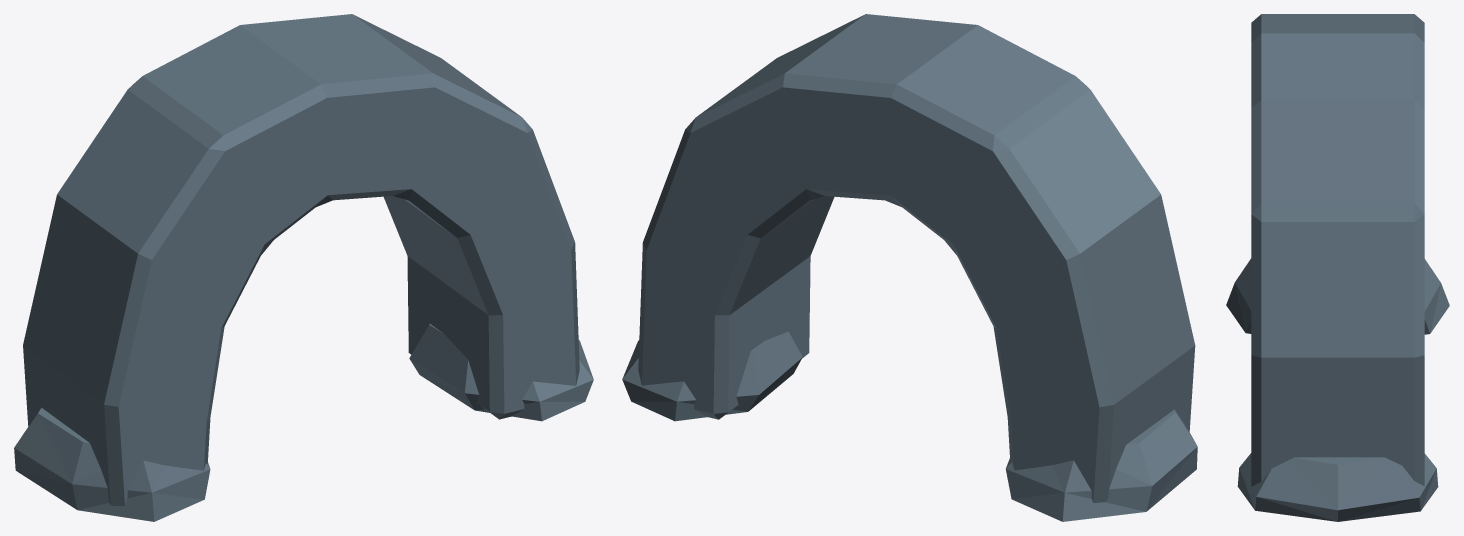
File: EM_RockArch.fbx
The picture shows the model from 3 angles, left to right: view 1: azimuth 30°, elevation 25°; view 2: azimuth 150°, elevation 25°; view 3: azimuth 270°, elevation 25°; orthographic projection. The views are drawn at different scales.
Parts seen in each view (by area): view 1: EM_RockArch; view 2: EM_RockArch; view 3: EM_RockArch.
Part boxes in pixels (x1,y1,x2,y2): EM_RockArch: (14,14,593,521); EM_RockArch: (622,14,1197,521); EM_RockArch: (1226,14,1449,521).
Size of the model in its own units: 3.81 by 2.55 by 1.45.
